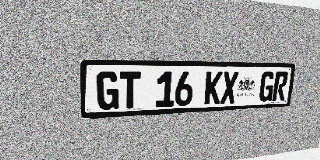1: (155, 71, 176, 107)
6: (174, 71, 194, 106)
G: (96, 71, 119, 110), (258, 72, 275, 102)
K: (204, 71, 223, 105)
R: (272, 72, 289, 101)
T: (120, 71, 141, 109)
X: (220, 72, 239, 104)
